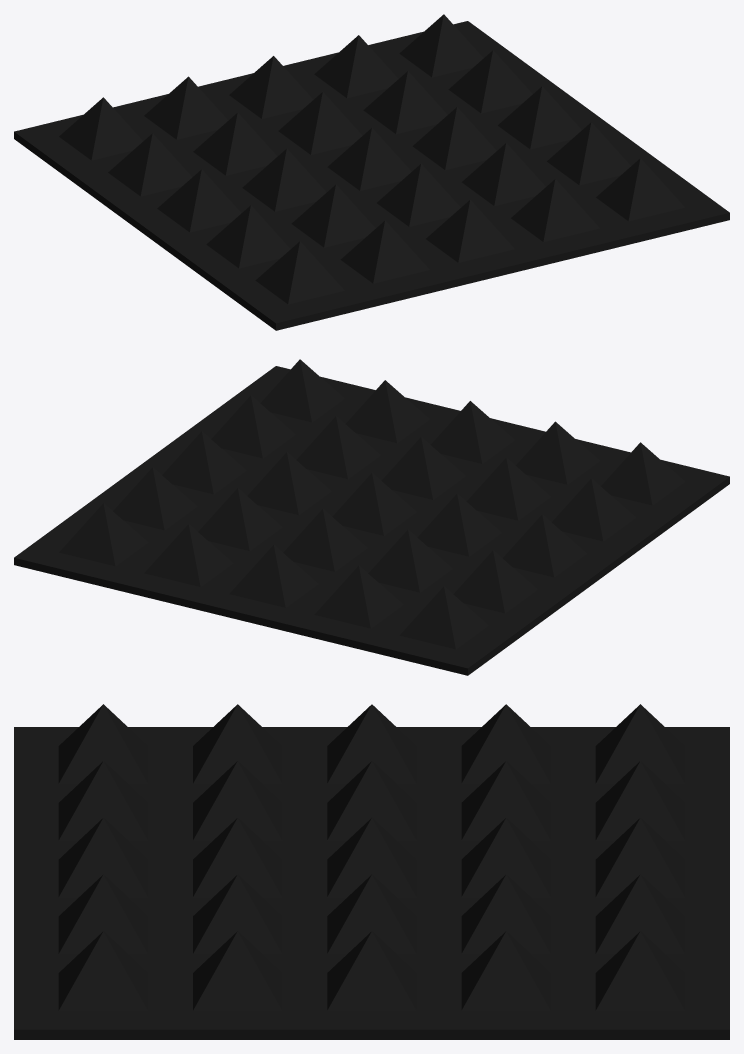
Rendered from anti_tresspass_rubber.obj.
3 views of the same model, one above another, from view 1: azimuth 30°, elevation 25°; view 2: azimuth 150°, elevation 25°; view 3: azimuth 270°, elevation 25° (orthographic). The views are drawn at different scales.
Visible parts, largest first — view 1: pyramid, cube; view 2: pyramid, cube; view 3: pyramid, cube.
Boxes of the visible parts, <box> form: pyramid: <box>59,14,684,304</box>; cube: <box>14,21,729,330</box>; pyramid: <box>59,359,684,649</box>; cube: <box>14,366,729,675</box>; pyramid: <box>58,704,685,1010</box>; cube: <box>14,727,729,1039</box>.
Bounding box in the file's own units: 1 × 0.1094 × 1.
Materials: 1 (1 with a texture image).
